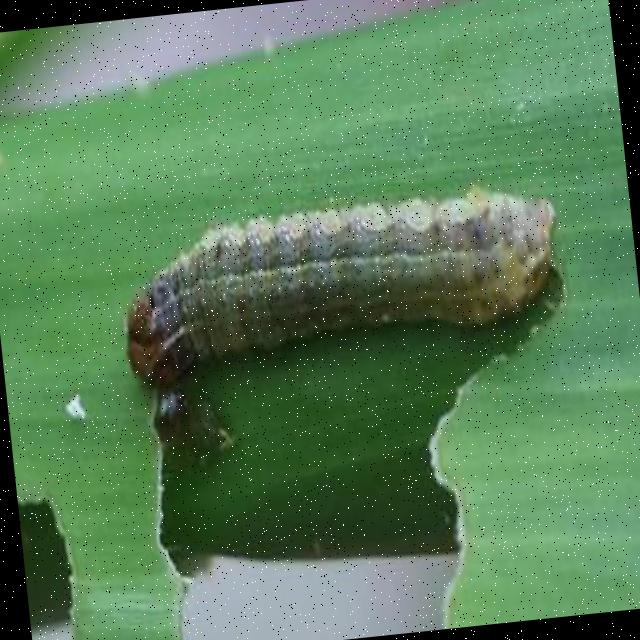worm: (112, 175, 573, 403), (114, 179, 573, 398)
